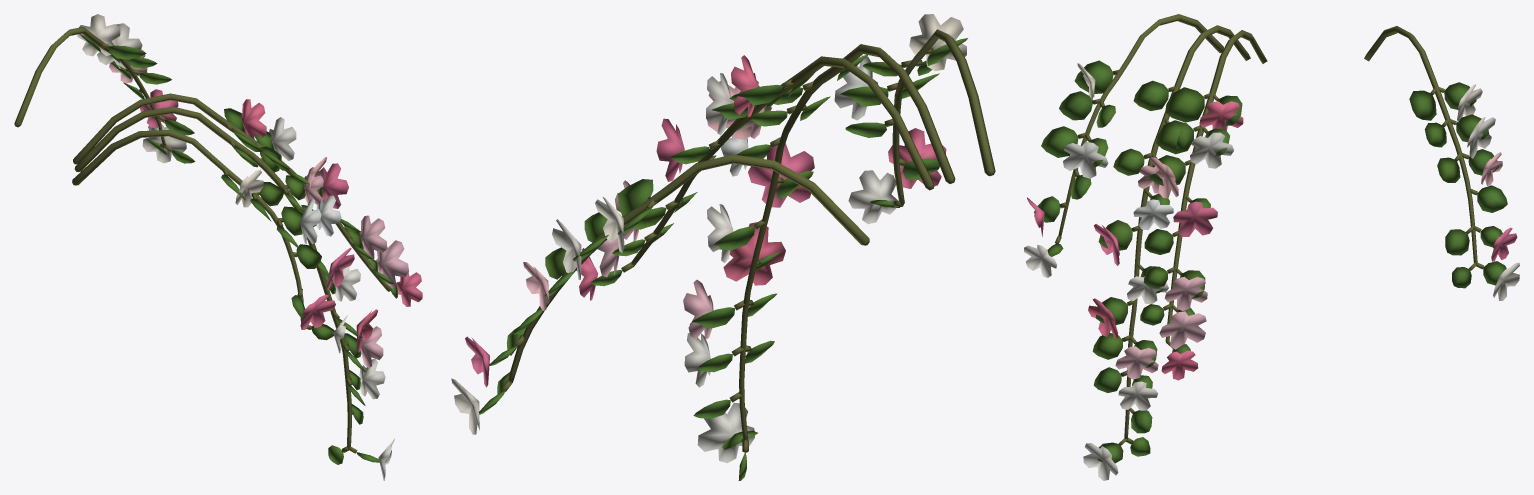
Rendered from rim_flowers.glb.
3 renders of one model, left to right at view 1: azimuth 30°, elevation 25°; view 2: azimuth 150°, elevation 25°; view 3: azimuth 270°, elevation 25°, orthographic. The views are drawn at different scales.
Visible parts, largest first — view 1: Sammel Pflanze, Sammel Putz; view 2: Sammel Pflanze, Sammel Putz; view 3: Sammel Pflanze, Sammel Putz.
Boxes of the visible parts, x1,y1,x2,y2 form: Sammel Pflanze: (77, 14, 422, 480); Sammel Putz: (14, 27, 391, 453); Sammel Pflanze: (451, 14, 967, 480); Sammel Putz: (501, 29, 995, 452); Sammel Pflanze: (1024, 60, 1519, 480); Sammel Putz: (1055, 14, 1483, 445).
Size of the model in its own units: 0.3444 by 0.3845 by 0.4656.
